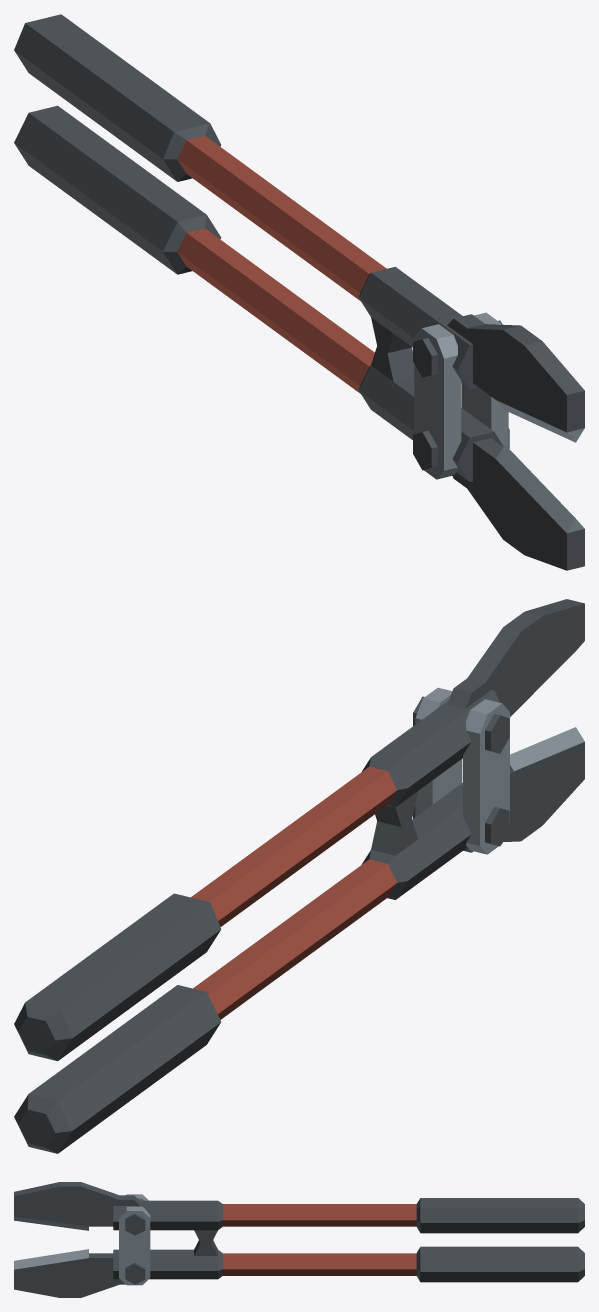
Rendered from SM_Prop_BoltCutters_01_Preset.fbx.
3 views of the same model, one above another, from view 1: azimuth 30°, elevation 25°; view 2: azimuth 150°, elevation 25°; view 3: azimuth 270°, elevation 25° (orthographic). The views are drawn at different scales.
Visible parts, largest first — view 1: SM_Prop_BoltCutters_01_Preset; view 2: SM_Prop_BoltCutters_01_Preset; view 3: SM_Prop_BoltCutters_01_Preset.
Boxes of the visible parts, <box> form: SM_Prop_BoltCutters_01_Preset: <box>14,14,584,570</box>; SM_Prop_BoltCutters_01_Preset: <box>14,599,584,1153</box>; SM_Prop_BoltCutters_01_Preset: <box>14,1182,584,1297</box>.
Size of the model in its own units: 7.81 by 20.08 by 93.59.
